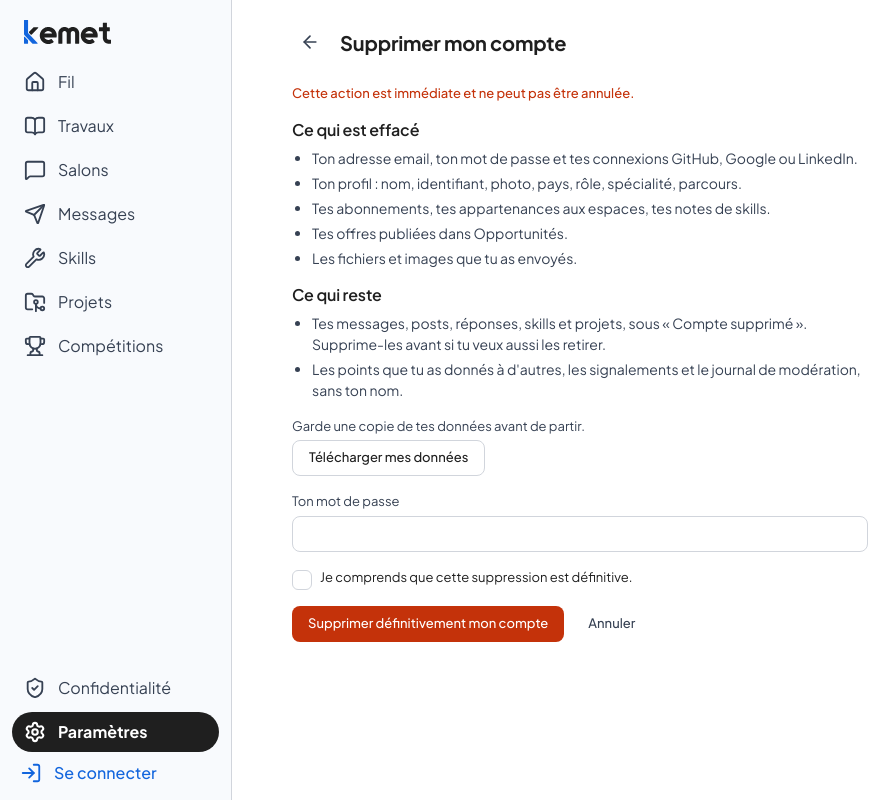
Scenario: DeleteAccountPage › à l'envoi, signale sous chaque champ la case et le mot de passe manquants
Click the button "Supprimer définitivement mon compte" at (428, 624), box [292,606,564,642]
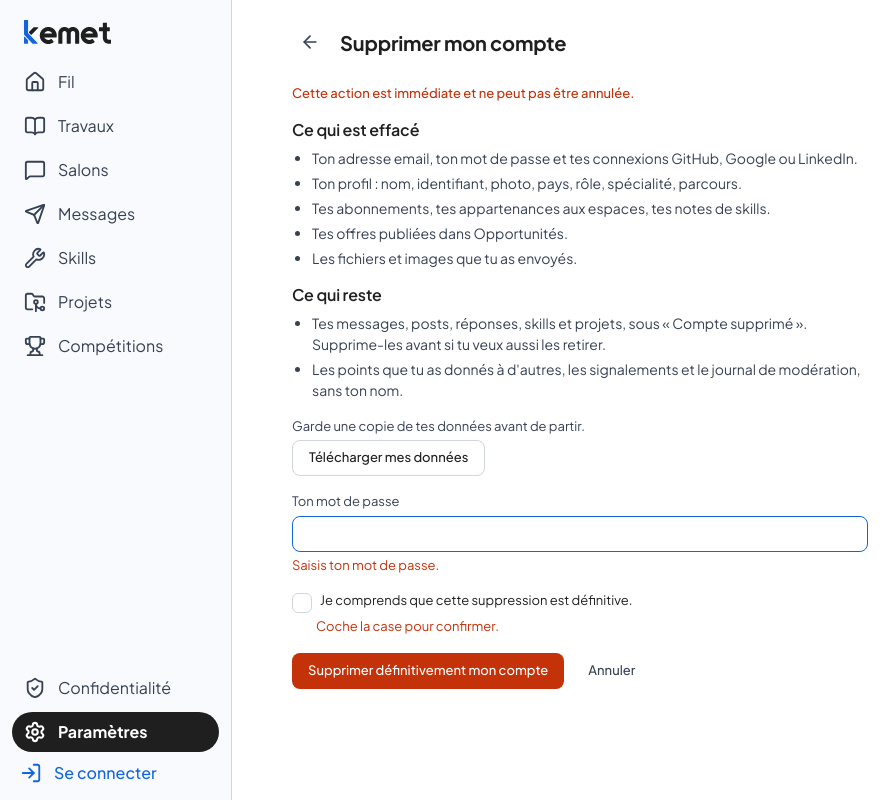
Result: the text "Coche la case pour confirmer." is shown at [316,618,499,634]
Result: the text "Saisis ton mot de passe." is shown at [292,556,439,572]
